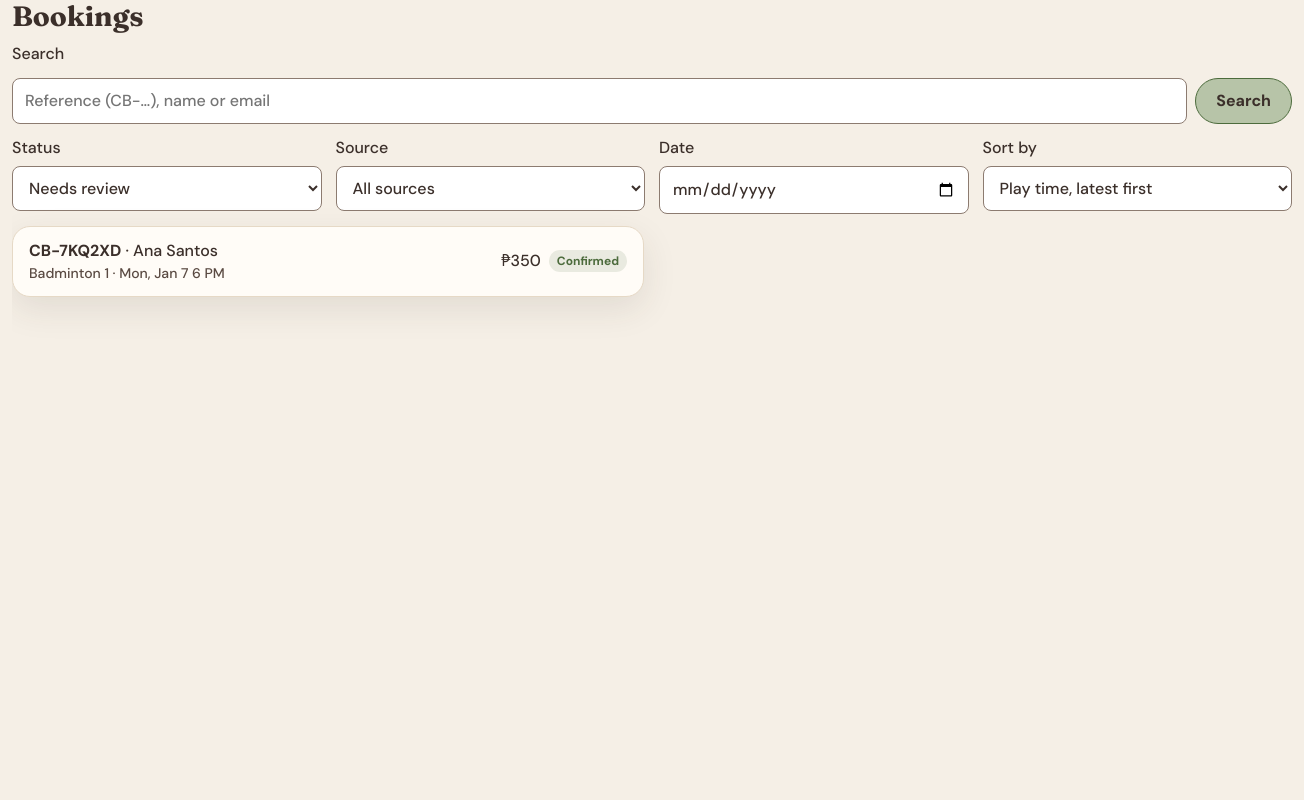
it: AdminBookingsPage search › searches all bookings, says so, and opens the booking a whole code finds
The image size is (1304, 800).
In the search field labelled "Search": (600, 101) [12,78,1187,124], type "cb-7kq2xd"
Then press Enter
(page scrolled)
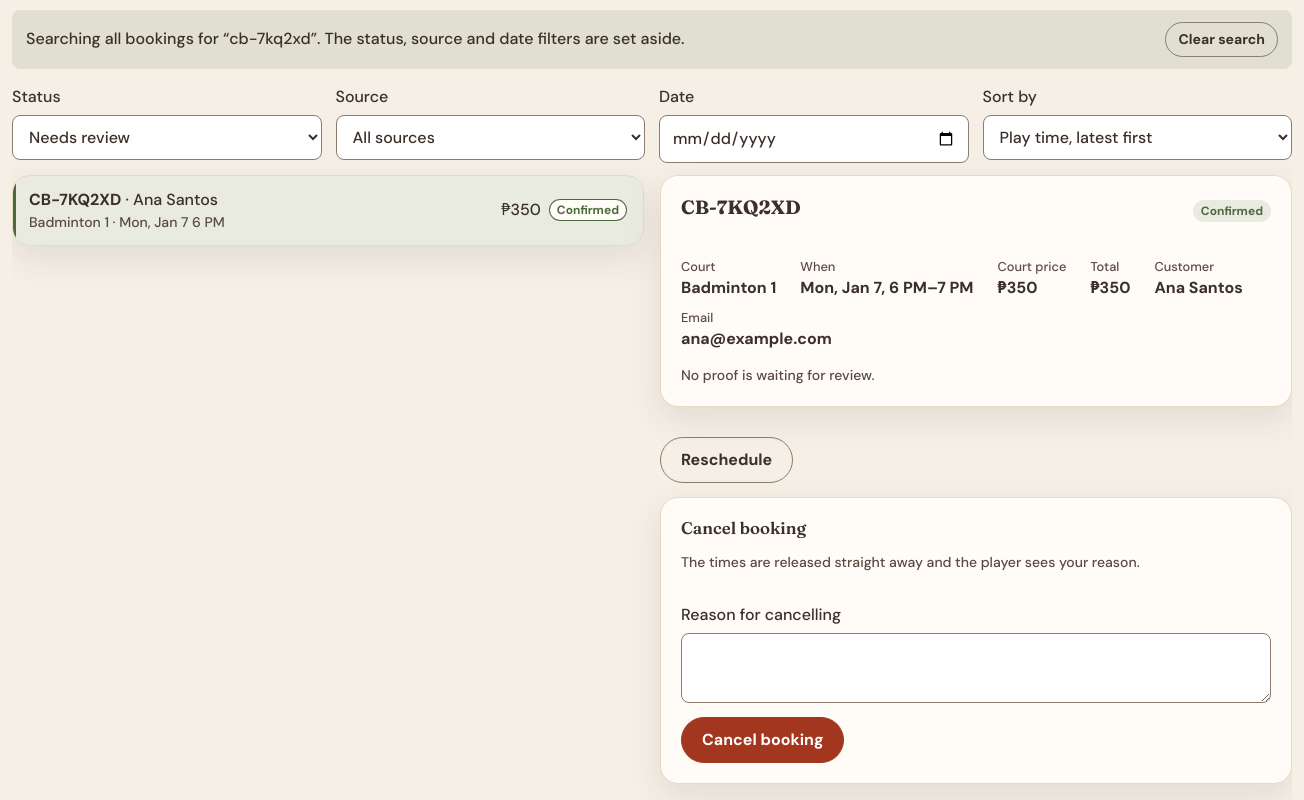
Expected: the button that starts with "CB-7KQ2XD" is shown, [13,176,643,245]
Result: the message shows "Searching all bookings for “cb-7kq2xd”. The status, source and date filters are set aside." at [12,10,1292,69]
